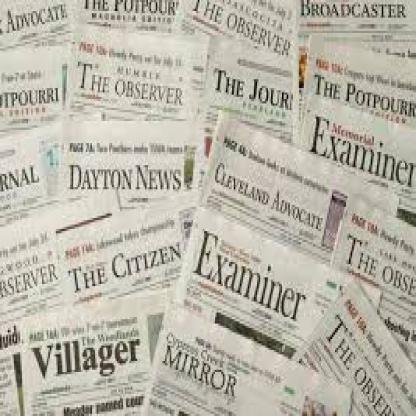paper: (0, 0, 415, 415), (170, 202, 382, 372), (197, 108, 398, 273), (140, 299, 351, 414), (17, 284, 173, 414), (288, 279, 414, 414), (293, 0, 414, 139), (299, 90, 415, 222), (329, 192, 414, 356), (52, 202, 180, 301), (61, 22, 199, 112), (59, 114, 198, 202), (199, 29, 291, 145), (301, 33, 414, 114), (0, 203, 58, 308), (179, 0, 295, 51), (0, 119, 59, 209), (0, 46, 61, 117), (62, 0, 178, 29), (0, 0, 63, 47), (0, 312, 17, 414)
